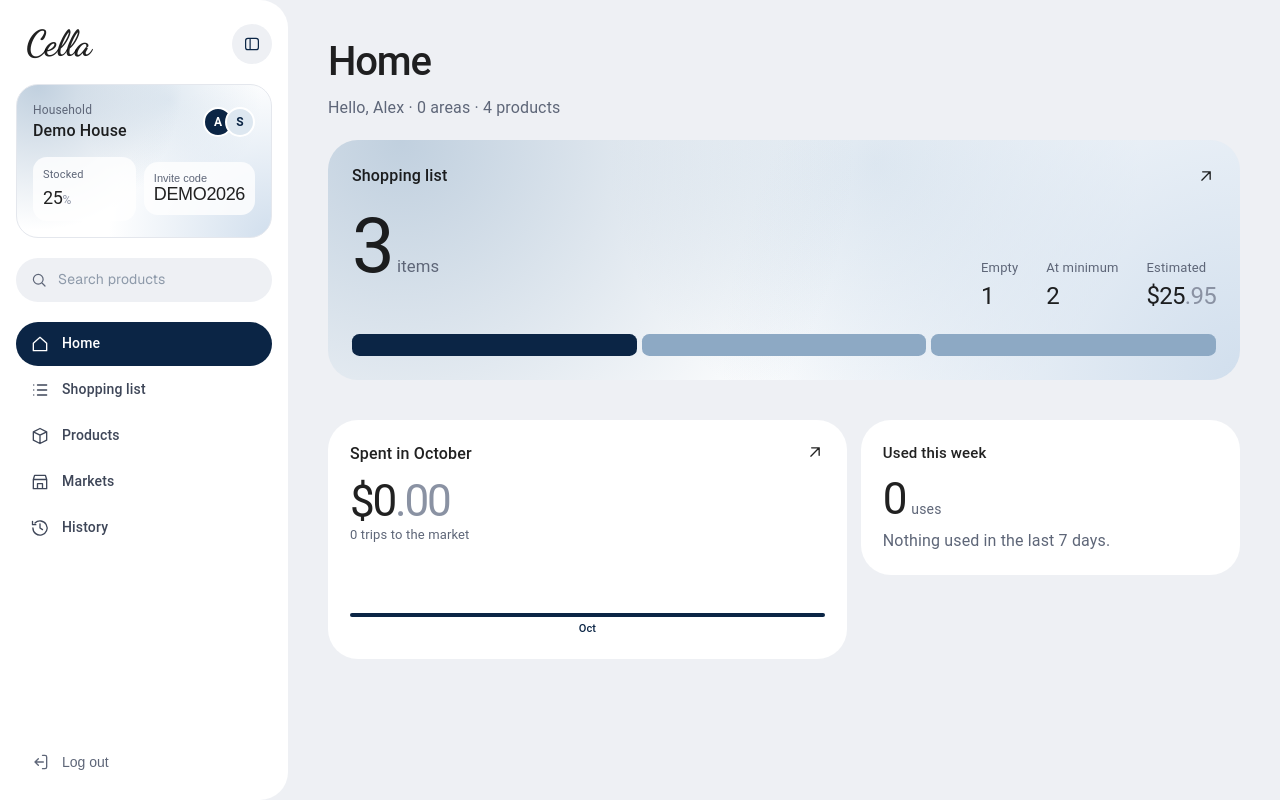
Test: Invite › shows the code, and that a demo copy cannot be joined
This screenshot has width=1280, height=800.
Click the button with aria-label "Invite someone": (199, 189) [144,157,255,220]
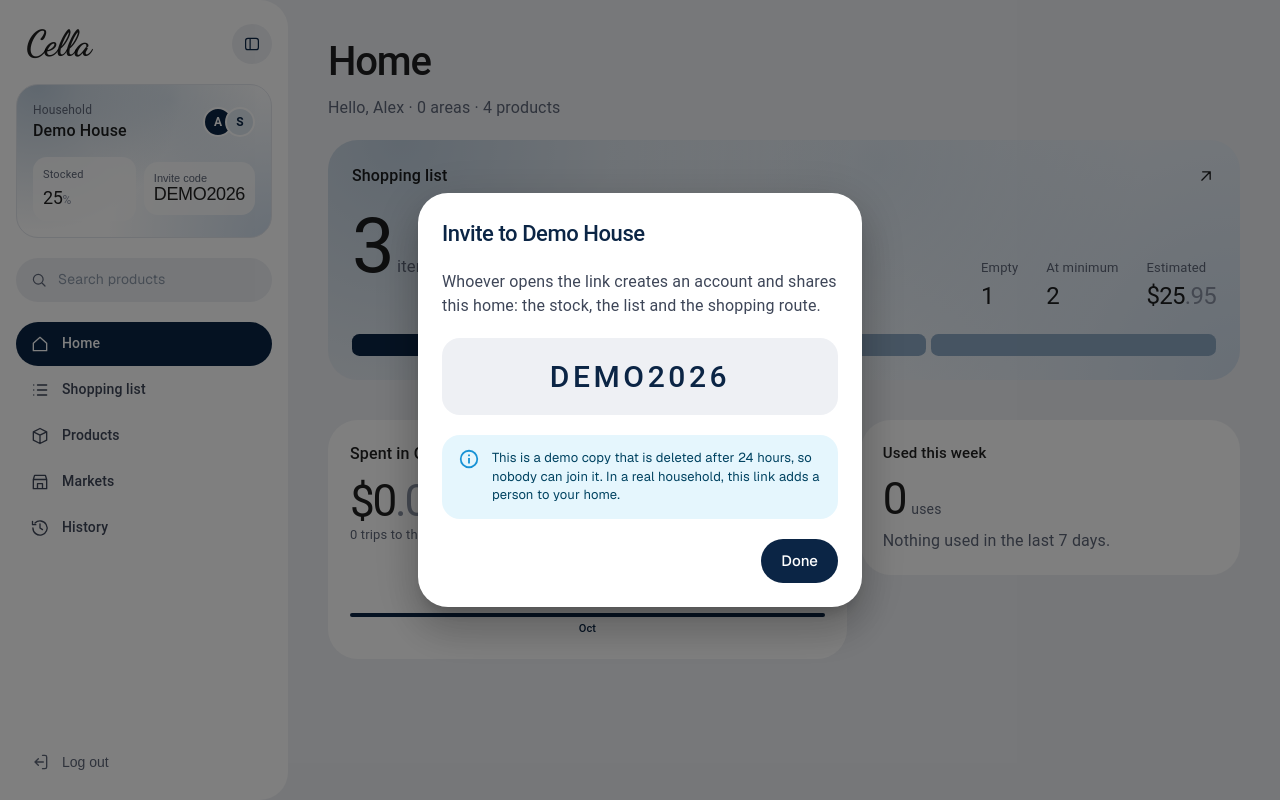
Now the heading "Invite to Demo House" is shown, box [442,221,645,246]
Now the text named "Invite code" reads "DEMO2026", box [550,359,730,394]
Now the text "nobody can join it" is shown, box [492,449,820,503]
